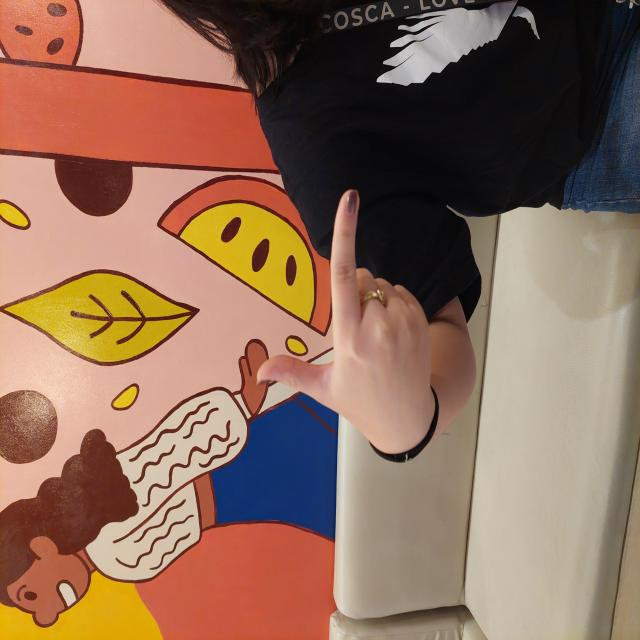G: (178, 253, 454, 434)
